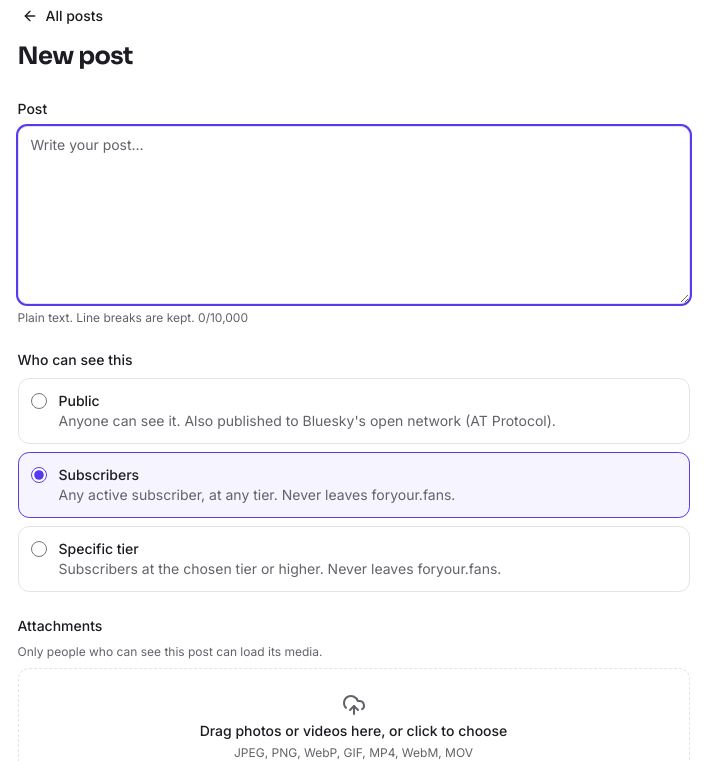
it: PostComposer › reveals the tier picker for Specific tier
The image size is (709, 761).
Click the radio button labelled "Specific tier" at (38, 549), box top-left (30, 541), bottom-right (46, 557)
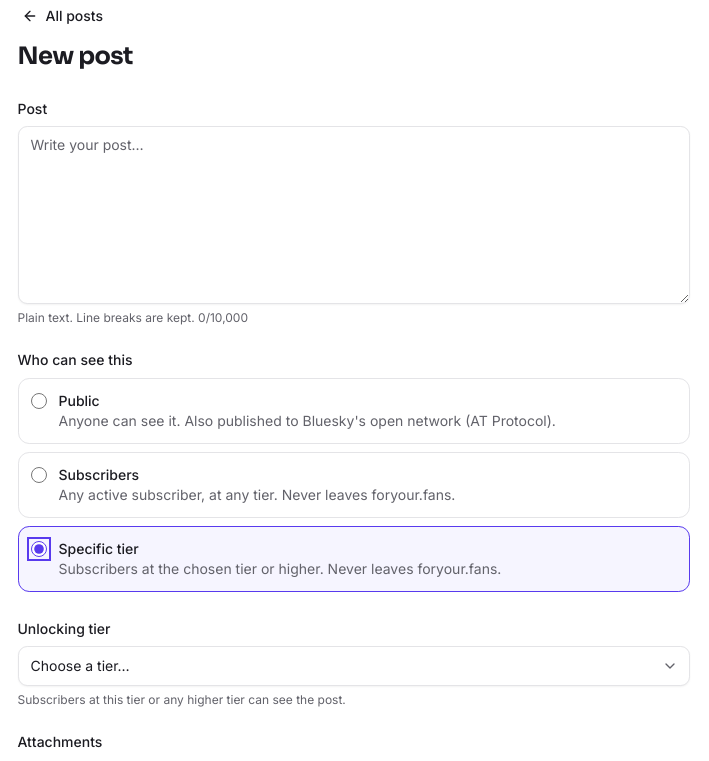
Now the dropdown is shown, box top-left (18, 646), bottom-right (690, 686)
